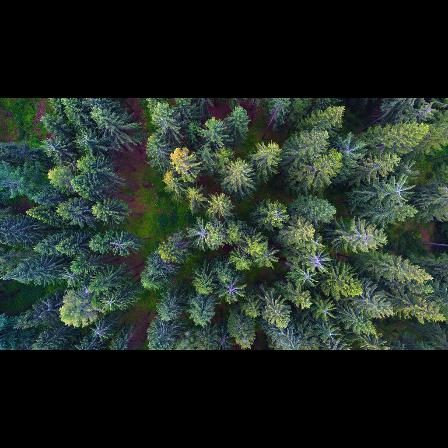Sick: (330, 131, 368, 164), (301, 244, 336, 272), (220, 276, 247, 303), (292, 266, 322, 289), (88, 318, 113, 342)
